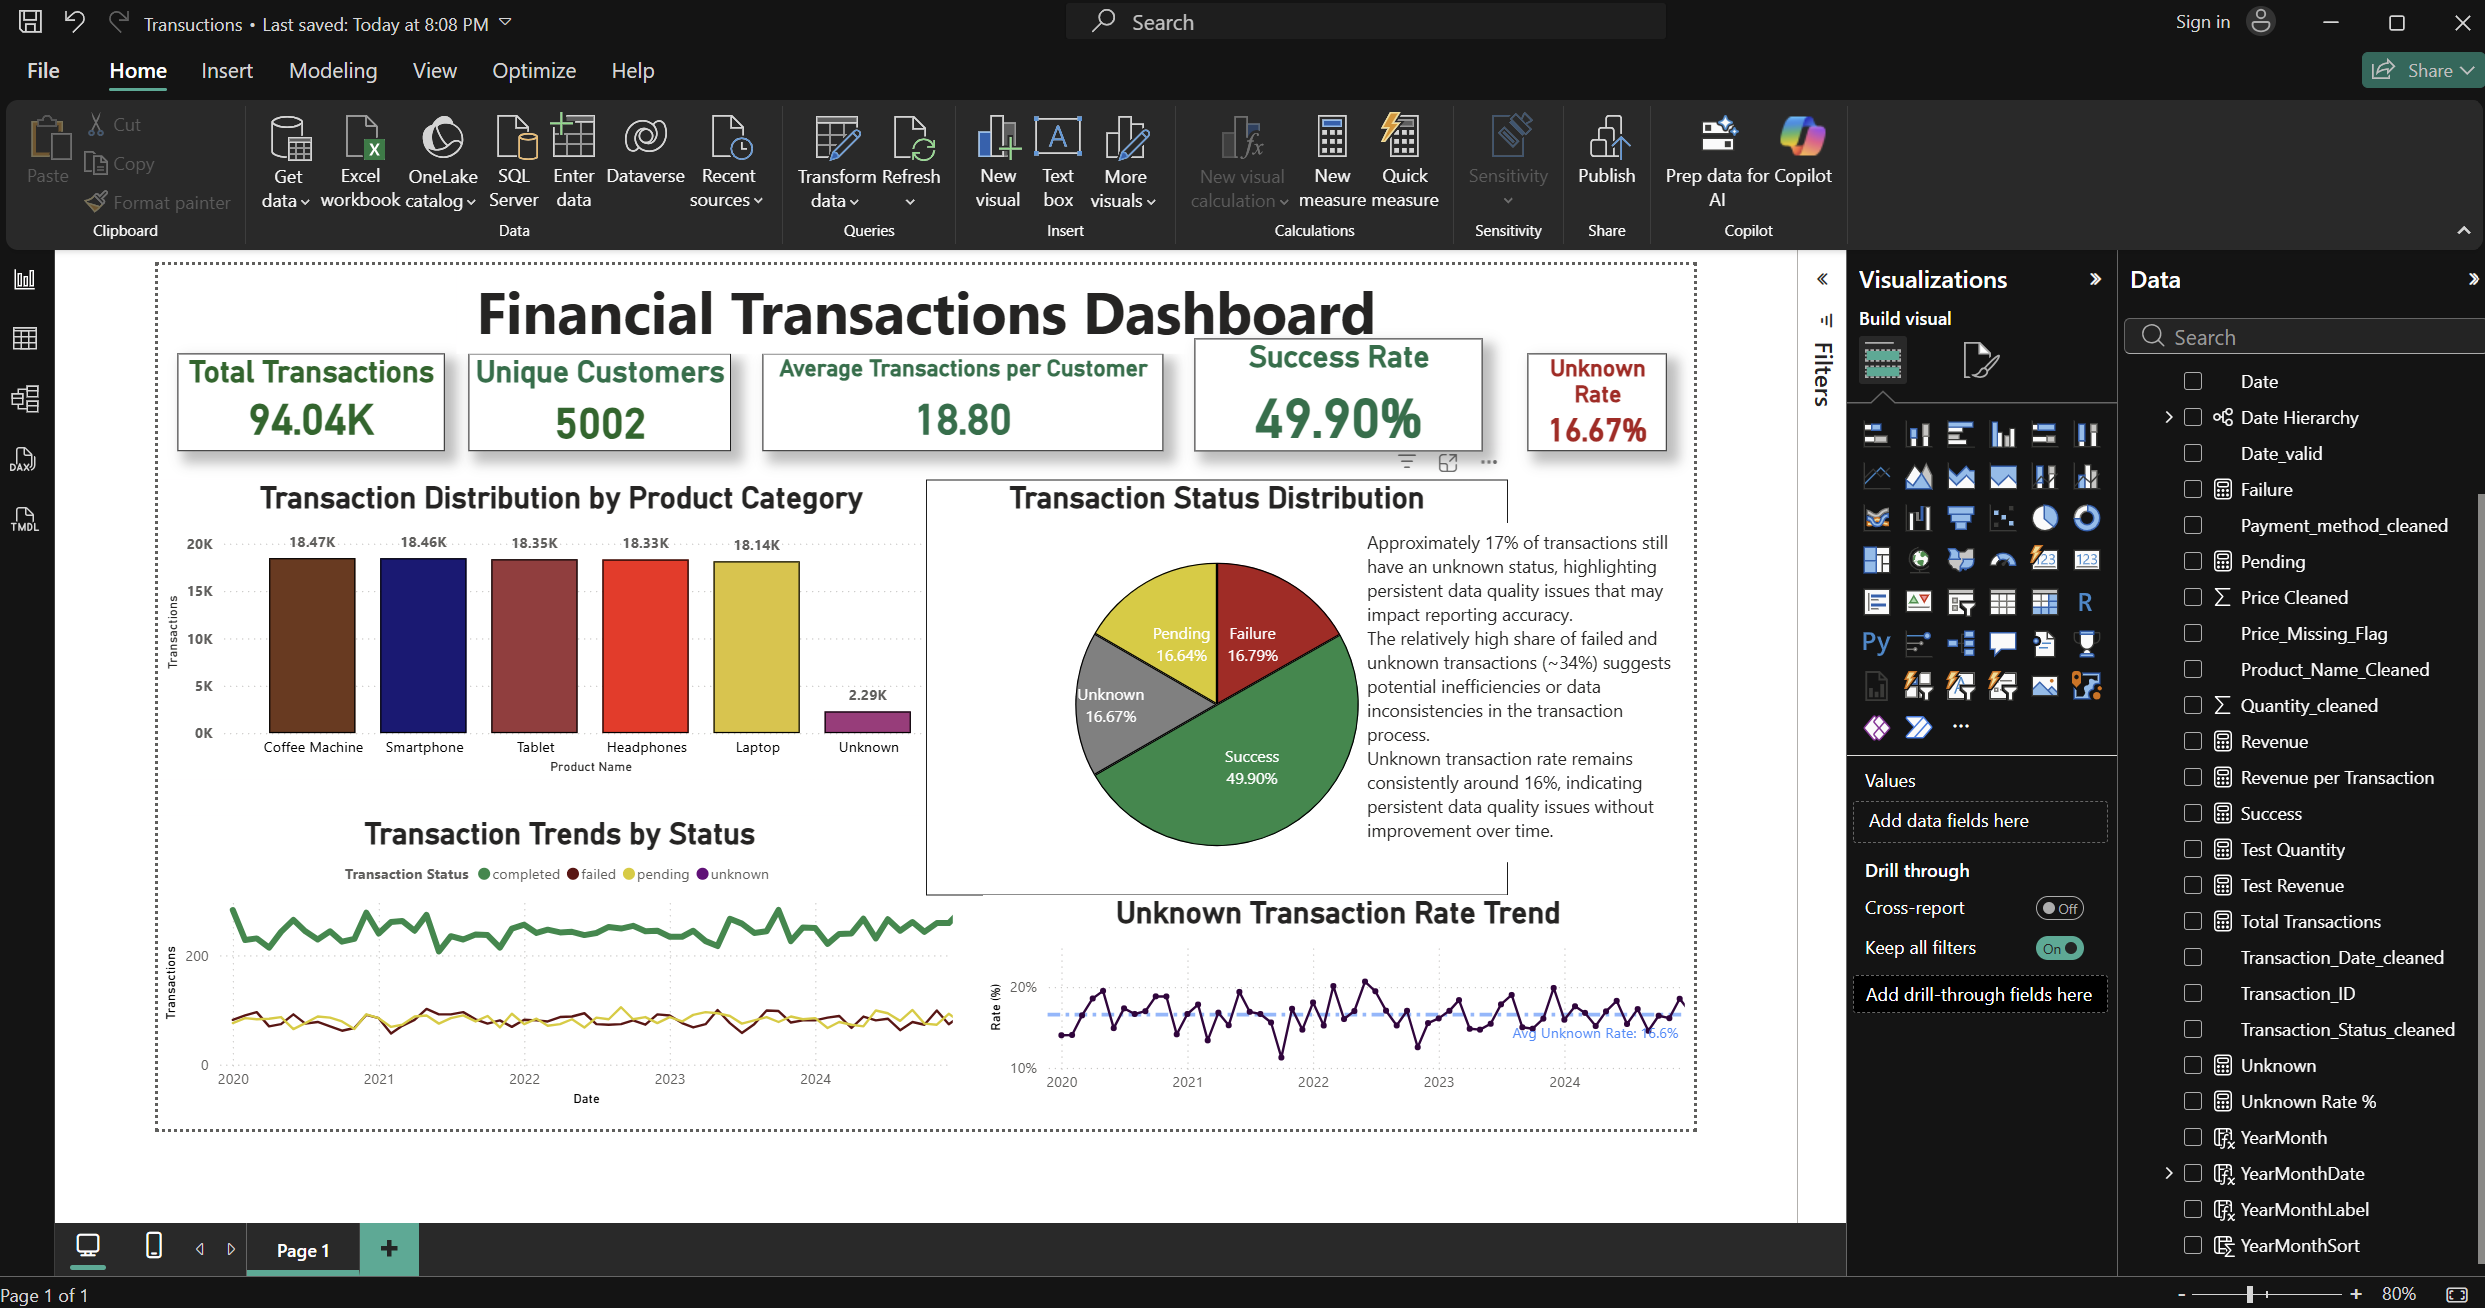

The dashboard page shown, as its layout file describes it:
{"tool":"powerbi","page":{"name":"Page 1","canvas":[1280,720],"ordinal":0},"visuals":[{"type":"card","title":"Total Transactions","fields":{"Values":["Count(FT_CLEANED.Transaction_ID)"]},"box":[16.2,73.8,222.5,81.2],"z":0},{"type":"card","title":"Unique Customers","fields":{"Values":["Count(FT_CLEANED.Customer_ID_cleaned)"]},"box":[258.8,73.8,218.8,81.2],"z":1000},{"type":"columnChart","title":"Transaction Distribution by Product Category","fields":{"Category":["FT_CLEANED.Product_Name_Cleaned"],"Y":["Count(FT_CLEANED.Transaction_ID)"]},"box":[1.2,178.8,670,250],"z":2000},{"type":"lineChart","title":"Transaction Trends by Status","fields":{"Category":["FT_CLEANED.YearMonthDate"],"Series":["FT_CLEANED.Transaction_Status_cleaned"],"Y":["CountNonNull(FT_CLEANED.Transaction_ID)"]},"box":[0,458.8,670,246.2],"z":3000},{"type":"card","title":"Average Transactions per Customer","fields":{"Values":["FT_CLEANED.Avg Transactions per Customer"]},"box":[503.8,73.8,333.8,81.2],"z":4000},{"type":"pieChart","title":"Transaction Status Distribution","fields":{"Y":["FT_CLEANED.Failure Rate","FT_CLEANED.Success Rate","FT_CLEANED.Unknown Rate","FT_CLEANED.Pending Rate"]},"box":[640,178.8,485,346.2],"z":5000},{"type":"textbox","box":[248.8,0,782.5,73.8],"z":6000},{"type":"textbox","box":[1002.5,215,277.5,282.5],"z":7000},{"type":"card","title":"Unknown Rate","fields":{"Values":["FT_CLEANED.Unknown Rate"]},"box":[1141.2,73.8,116.2,81.2],"z":8000},{"type":"card","title":"Success Rate","fields":{"Values":["FT_CLEANED.Success Rate"]},"box":[863.8,61.2,240,93.8],"z":9000},{"type":"lineChart","title":"Unknown Transaction Rate Trend","fields":{"Category":["FT_CLEANED.YearMonthDate"],"Y":["FT_CLEANED.Unknown Rate %"]},"box":[687.5,525,592.5,173.8],"z":10000}]}

Visuals, with their boxes in screenshot pixels (x1, y1, x2, y2):
"Total Transactions" card: <region>74, 100, 473, 245</region>
"Unique Customers" card: <region>509, 100, 900, 245</region>
"Transaction Distribution by Product Category" columnChart: <region>47, 288, 1247, 735</region>
"Transaction Trends by Status" lineChart: <region>45, 789, 1245, 1230</region>
"Average Transactions per Customer" card: <region>947, 100, 1545, 245</region>
"Transaction Status Distribution" pieChart: <region>1191, 288, 2060, 908</region>
textbox: <region>491, 0, 1892, 100</region>
textbox: <region>1840, 353, 2337, 858</region>
"Unknown Rate" card: <region>2089, 100, 2297, 245</region>
"Success Rate" card: <region>1592, 77, 2022, 245</region>
"Unknown Transaction Rate Trend" lineChart: <region>1276, 908, 2337, 1219</region>
